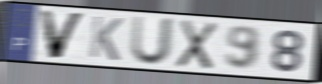8: (271, 28, 305, 73)
9: (224, 24, 260, 72)
K: (87, 14, 125, 63)
U: (129, 14, 178, 68)
V: (37, 8, 88, 61)
X: (175, 18, 220, 72)
